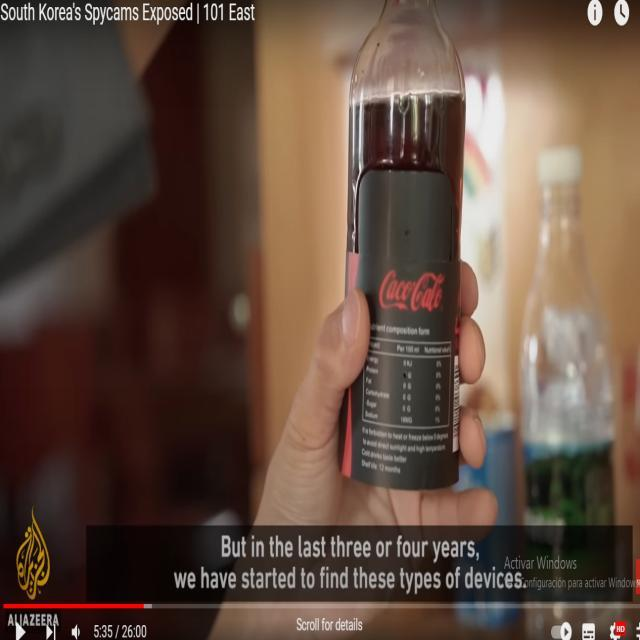hidden camera: (404, 228, 411, 237)
